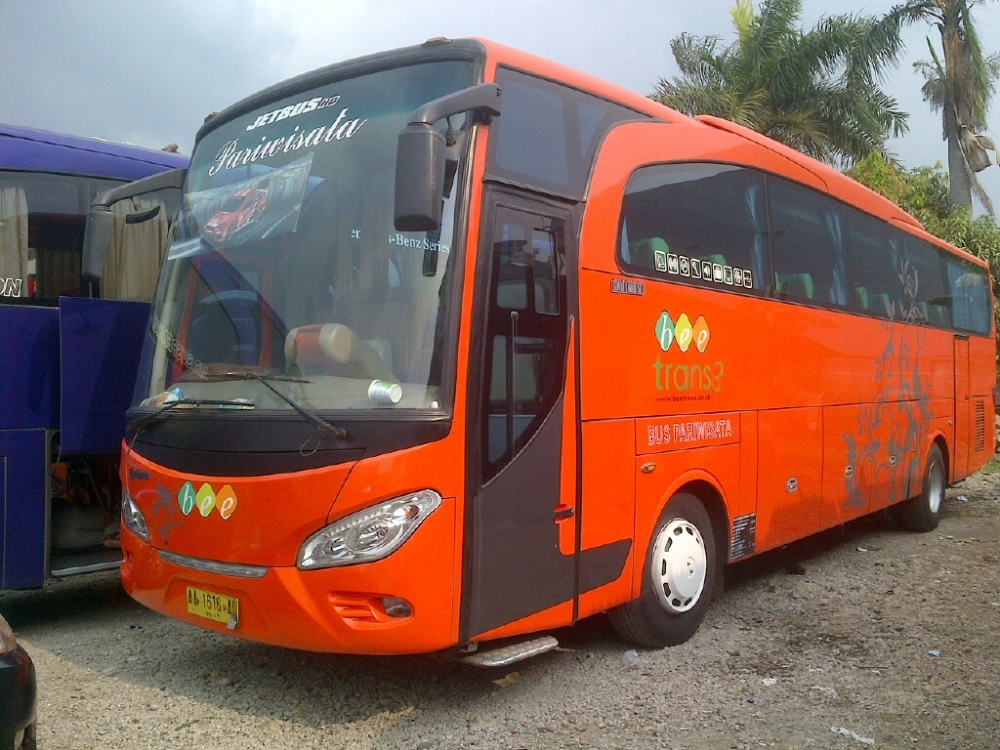plate: (183, 586, 243, 625)
